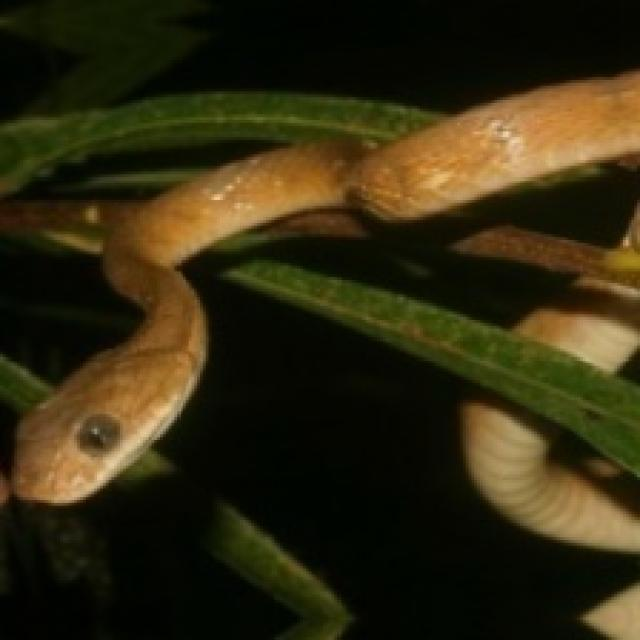philippine cat snake: (11, 71, 637, 500), (462, 400, 640, 552), (515, 278, 640, 372)
